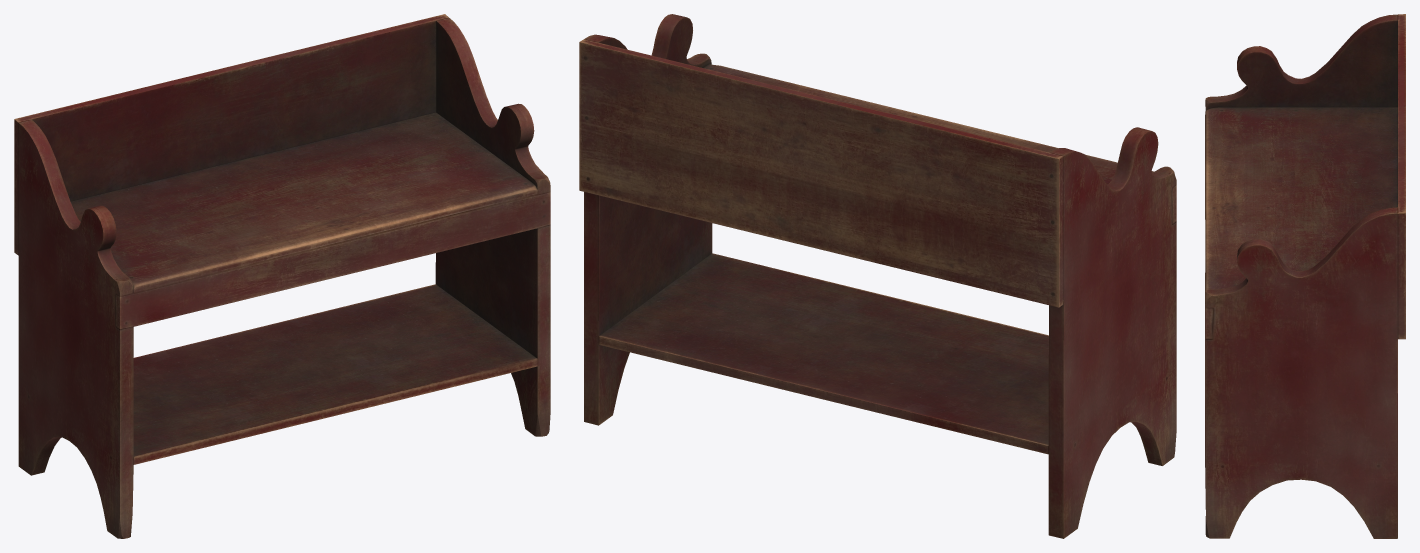
The model's file is painted_wooden_bench.glb.
3 renders of one model, left to right at view 1: azimuth 30°, elevation 25°; view 2: azimuth 150°, elevation 25°; view 3: azimuth 270°, elevation 25°, orthographic. The views are drawn at different scales.
Parts seen in each view (by area): view 1: painted_wooden_bench; view 2: painted_wooden_bench; view 3: painted_wooden_bench.
Boxes of the visible parts, x1,y1,x2,y2 form: painted_wooden_bench: (14,14,550,538); painted_wooden_bench: (579,14,1176,538); painted_wooden_bench: (1205,14,1405,538).
Size of the model in its own units: 1.16 by 0.8893 by 0.4965.
Materials: 1 (1 with a texture image).
